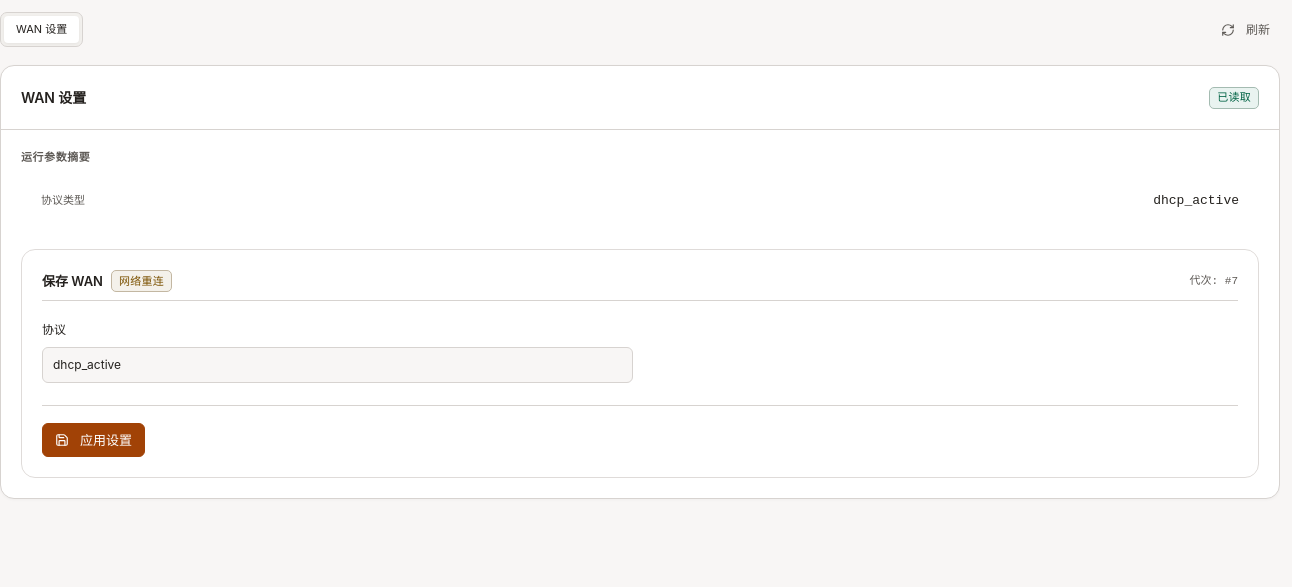
Test: FeatureDomainPanel › retains last state data but displays error banner and failure badge when refresh fails with 503
Expected: the text "已读取" is shown, x1=1209 y1=86 x2=1259 y2=108
Expected: the text "dhcp_active" is shown, x1=1153 y1=192 x2=1239 y2=210
Note: Click refresh
Click the button "刷新" at (1246,30), box x1=1211 y1=15 x2=1280 y2=44
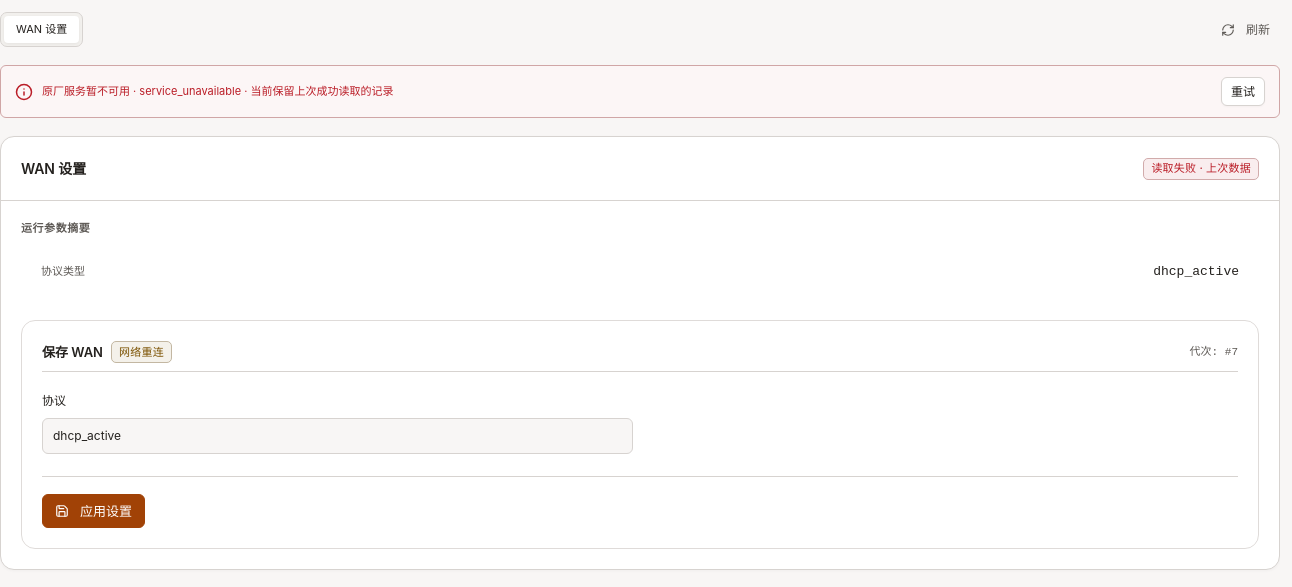
Expected: the text "读取失败 · 上次数据" is shown, x1=1143 y1=158 x2=1259 y2=180
Expected: the message shows "原厂服务暂不可用", x1=42 y1=84 x2=394 y2=98
Expected: the message shows "当前保留上次成功读取的记录", x1=42 y1=84 x2=394 y2=98
